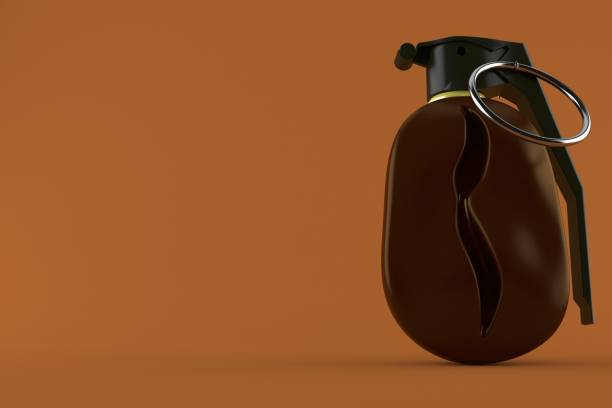e1: (376, 33, 592, 365)
